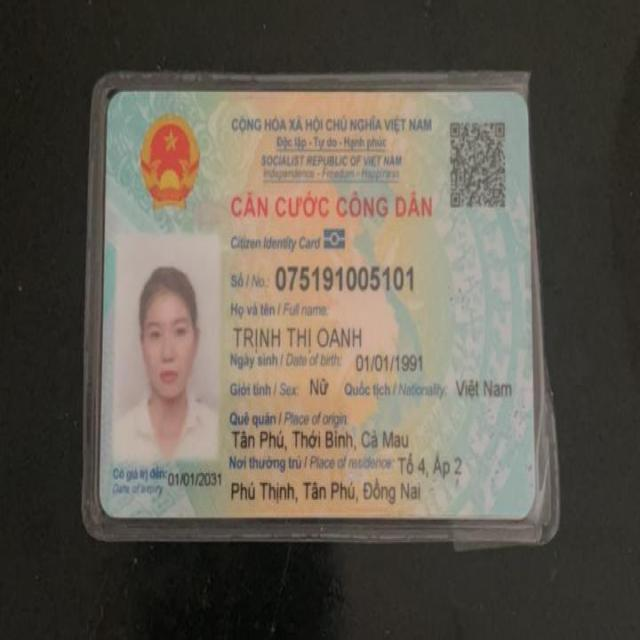bottom_left: (92, 488, 134, 528)
bottom_right: (499, 490, 542, 532)
image_person: (115, 238, 220, 463)
top_left: (94, 78, 136, 122)
top_right: (502, 79, 540, 120)
